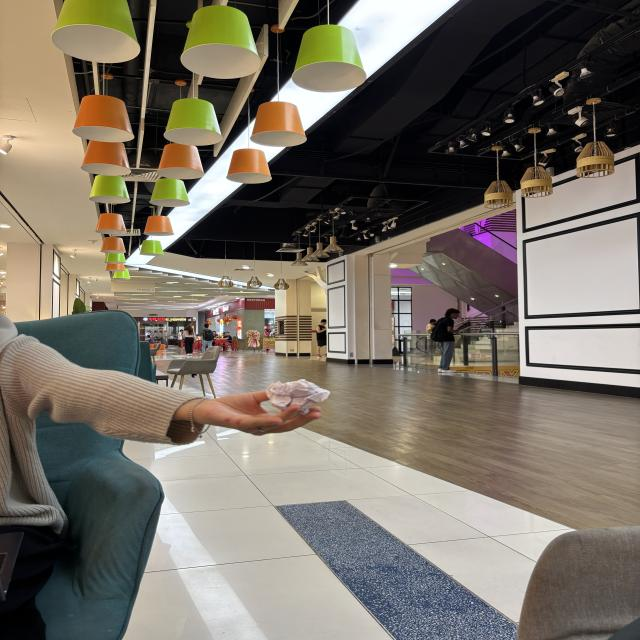crumpled_paper: (266, 378, 332, 414)
